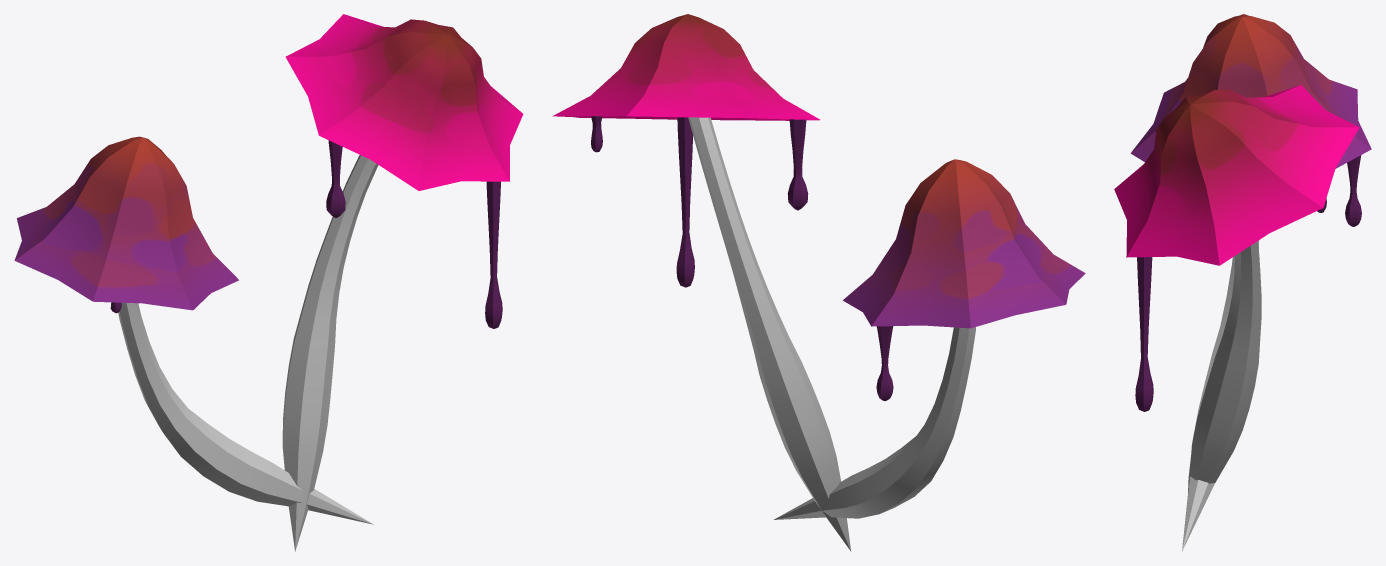
Rendered from Small Mushroom 2.obj.
The picture shows the model from 3 angles, left to right: view 1: azimuth 30°, elevation 25°; view 2: azimuth 150°, elevation 25°; view 3: azimuth 270°, elevation 25°; orthographic projection. The views are drawn at different scales.
Size of the model in its own units: 53.15 by 49.96 by 23.41.
